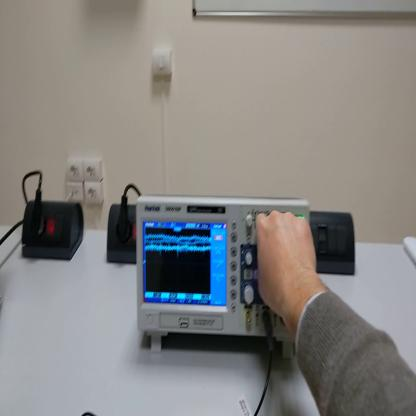hand: (255, 206, 321, 327)
oscilloscope: (134, 198, 308, 364)
socket: (24, 202, 86, 263), (110, 206, 137, 264)
